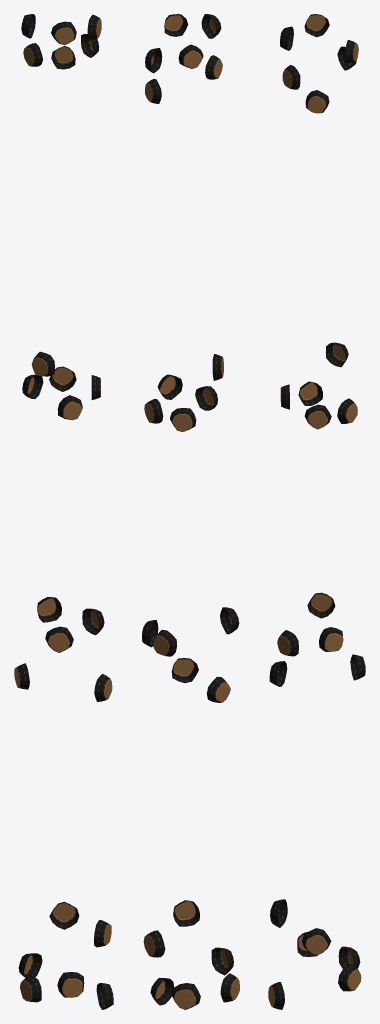
File: Sitka_Young_02_HighPruned_Recent_LOD1.fbx
The picture shows the model from 3 angles, left to right: view 1: azimuth 90°, elevation 25°; view 2: azimuth 210°, elevation 25°; view 3: azimuth 270°, elevation 25°; orthographic projection.
Parts seen in each view (by area): view 1: Sitka_Young_02_HighPruned_Recent_LOD1_Scars; view 2: Sitka_Young_02_HighPruned_Recent_LOD1_Scars; view 3: Sitka_Young_02_HighPruned_Recent_LOD1_Scars.
Boxes of the visible parts, x1,y1,x2,y2 form: Sitka_Young_02_HighPruned_Recent_LOD1_Scars: (14, 14, 113, 1009); Sitka_Young_02_HighPruned_Recent_LOD1_Scars: (142, 14, 239, 1009); Sitka_Young_02_HighPruned_Recent_LOD1_Scars: (268, 14, 365, 1009).
Size of what is drawn, in the model's own units: 19.18 by 215 by 19.34.
2 materials, 2 textured.
